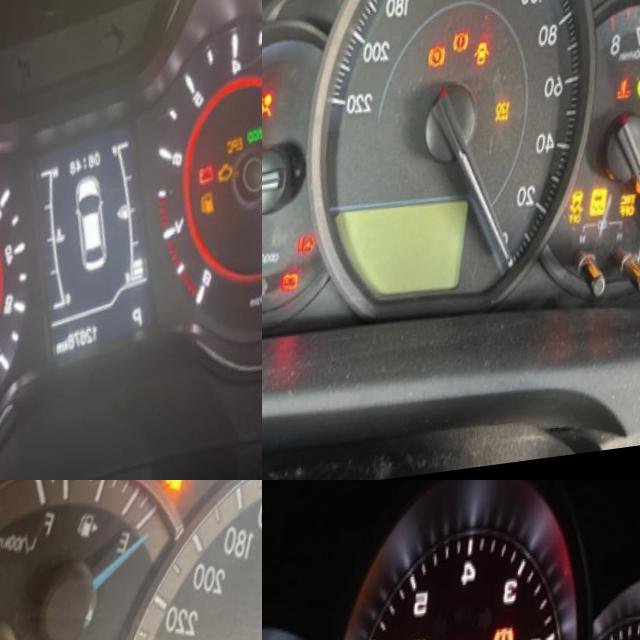Electronic Power Steering: (300, 232, 328, 271)
High Engine Coolant Temperature: (621, 88, 639, 115)
Low fuel level: (201, 199, 226, 231), (161, 480, 196, 502)
